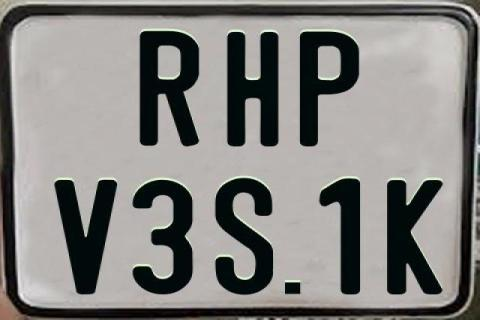0: (132, 180, 195, 298), (317, 177, 358, 293)
H: (226, 30, 282, 144)
K: (384, 179, 442, 297)
P: (298, 31, 359, 151)
R: (140, 30, 205, 146)
S: (215, 176, 274, 294)
V: (52, 177, 119, 293)
